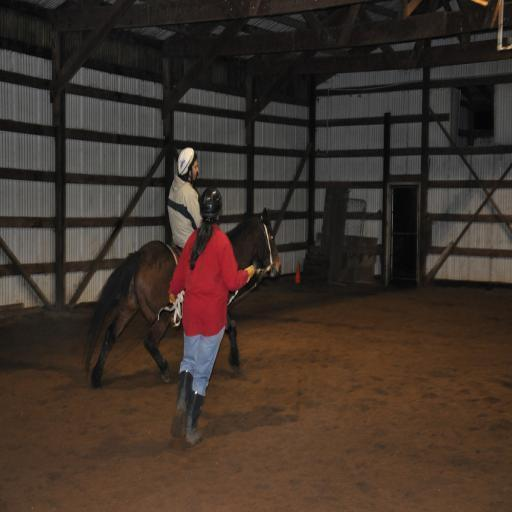horse: (83, 206, 282, 392)
